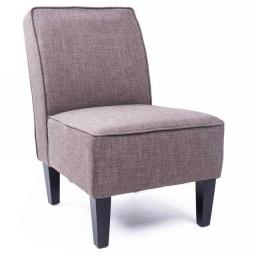Chair: (22, 6, 224, 247)
